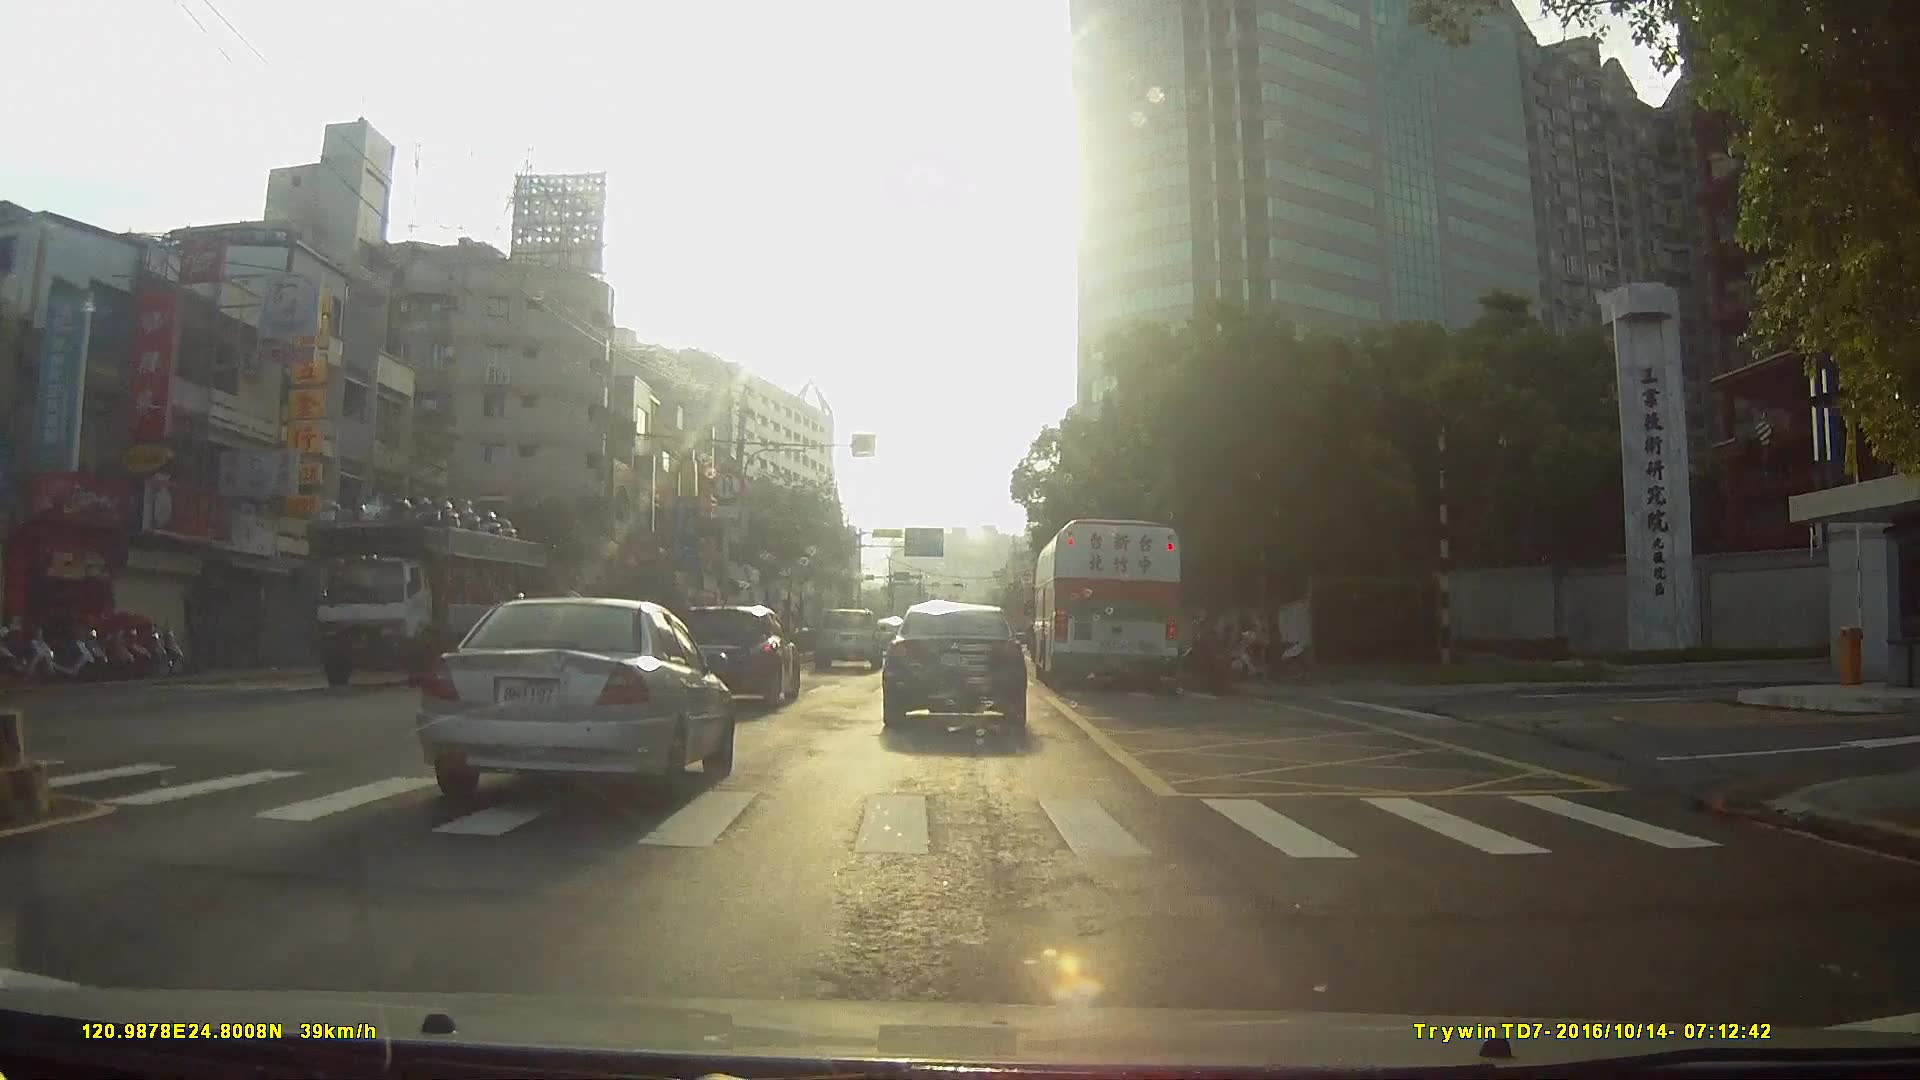vehicle: (406, 595, 731, 808), (298, 473, 555, 703), (1033, 513, 1184, 694), (878, 599, 1027, 732), (673, 607, 800, 709), (814, 607, 884, 673)
